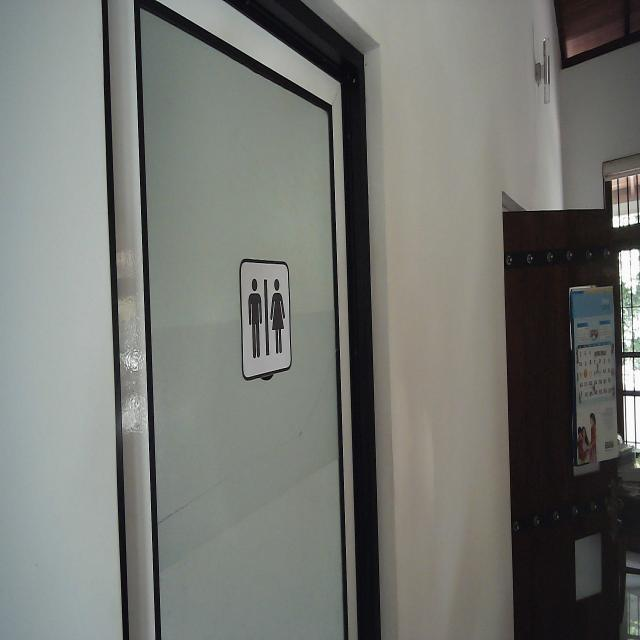restroom: (238, 254, 294, 384)
